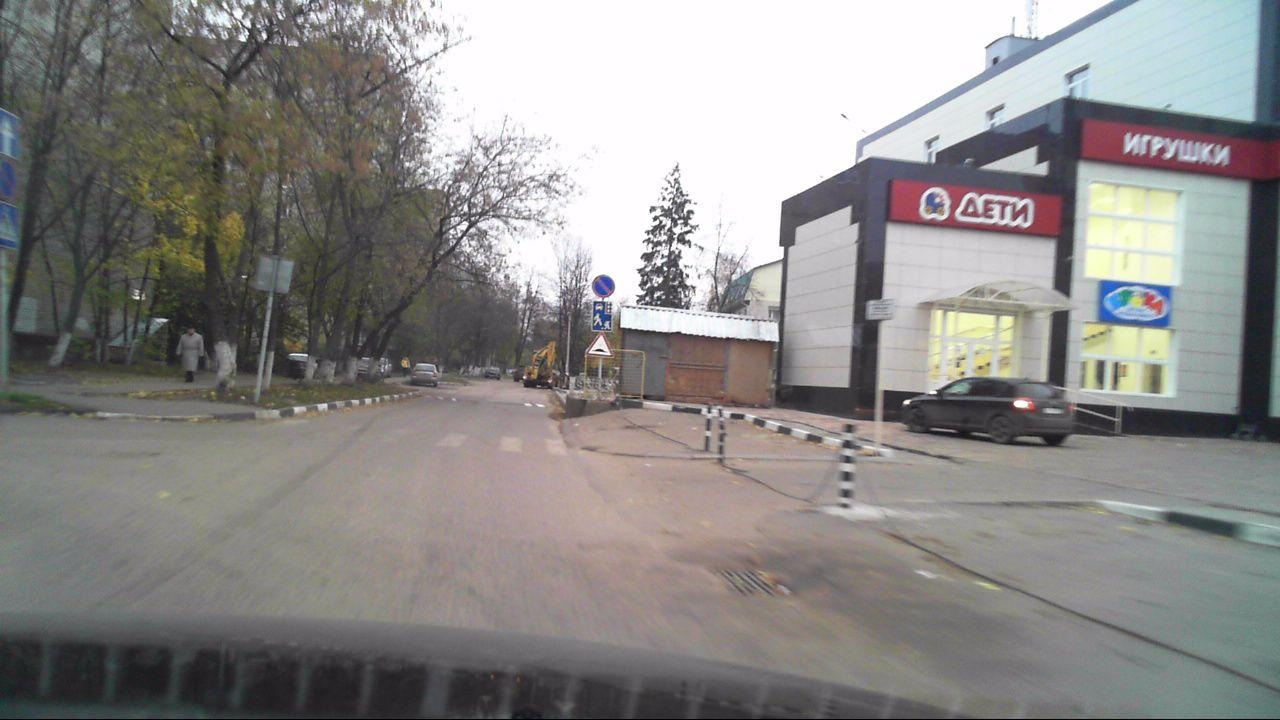1_17: (585, 331, 613, 358)
3_28: (0, 161, 21, 199), (592, 273, 614, 297)
5_19_1: (0, 206, 22, 250)
5_21: (592, 301, 612, 331)
5_5: (0, 109, 23, 158)
